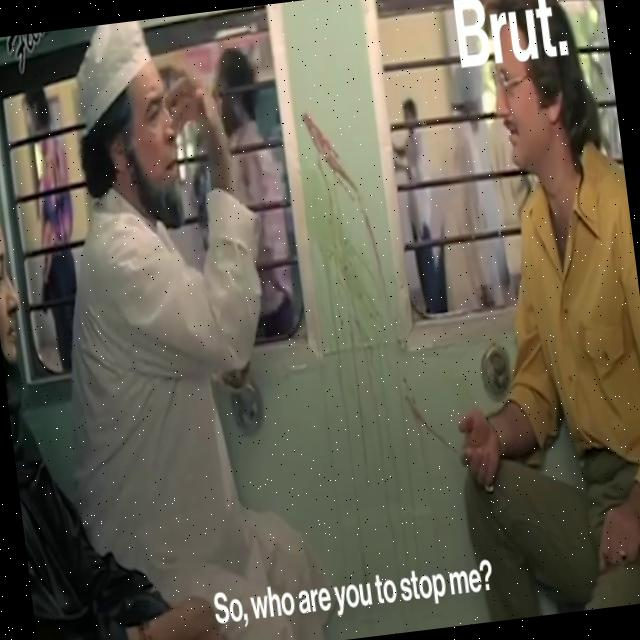spit: (284, 98, 424, 430)
